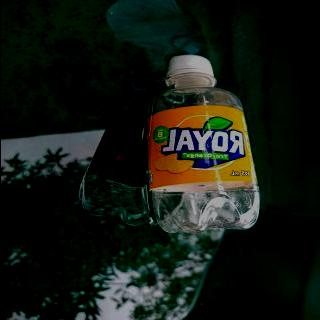bottle: (144, 52, 262, 236)
